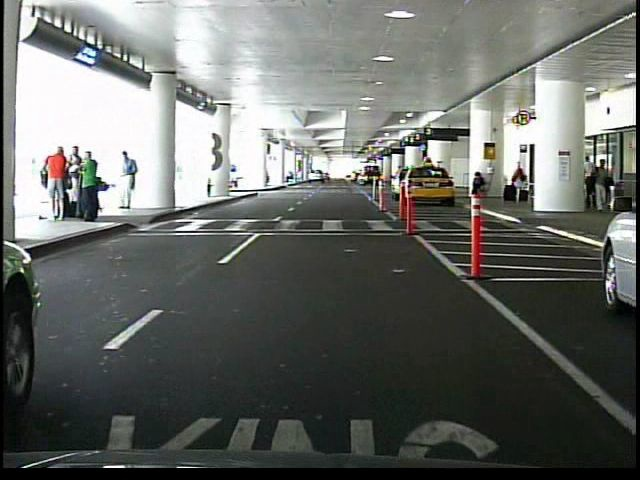person: (48, 145, 72, 221), (79, 151, 102, 226), (117, 151, 140, 213), (589, 153, 612, 213), (71, 145, 86, 212), (511, 160, 527, 204), (468, 170, 487, 200)
